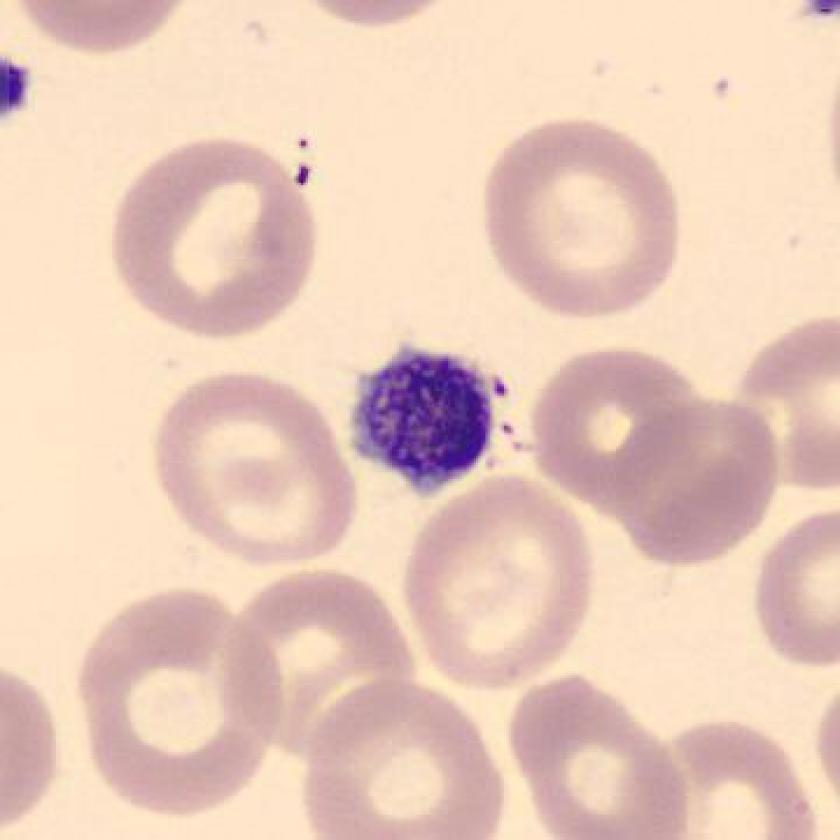platelets: (346, 330, 512, 510), (1, 43, 43, 121)
